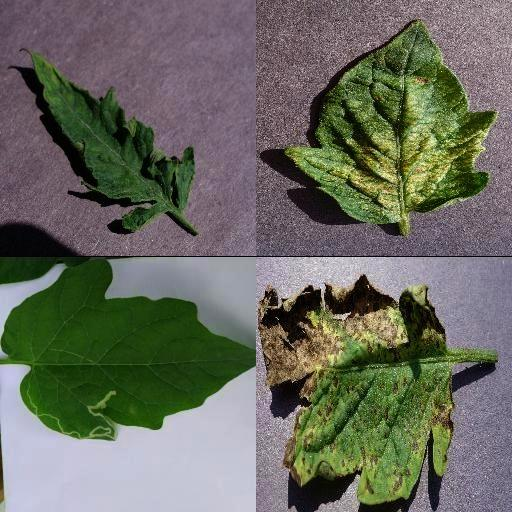Leaf Miner: (0, 256, 256, 443)
Mosaic Virus: (19, 47, 199, 231)
Septoria: (258, 272, 454, 505)
Spider Mites: (287, 17, 495, 223)
